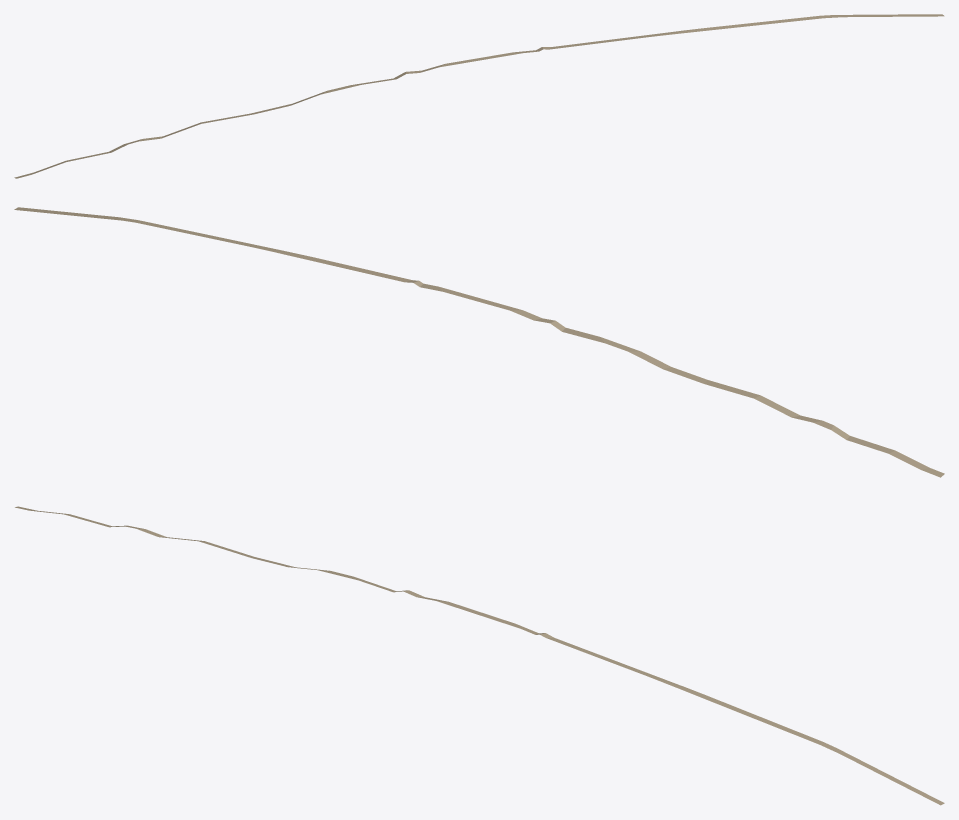
The model's file is farm_-7_-1_track.glb.
The picture shows the model from 3 angles, top to bottom: view 1: azimuth 30°, elevation 25°; view 2: azimuth 150°, elevation 25°; view 3: azimuth 330°, elevation 25°; orthographic projection. The views are drawn at different scales.
Parts seen in each view (by area): view 1: geometry_0; view 2: geometry_0; view 3: geometry_0.
Boxes of the visible parts, x1=… form: geometry_0: x1=14, y1=14, x2=944, y2=178; geometry_0: x1=14, y1=207, x2=944, y2=477; geometry_0: x1=15, y1=506, x2=944, y2=805.
Bounding box in the file's own units: 522 × 25.79 × 56.07.
